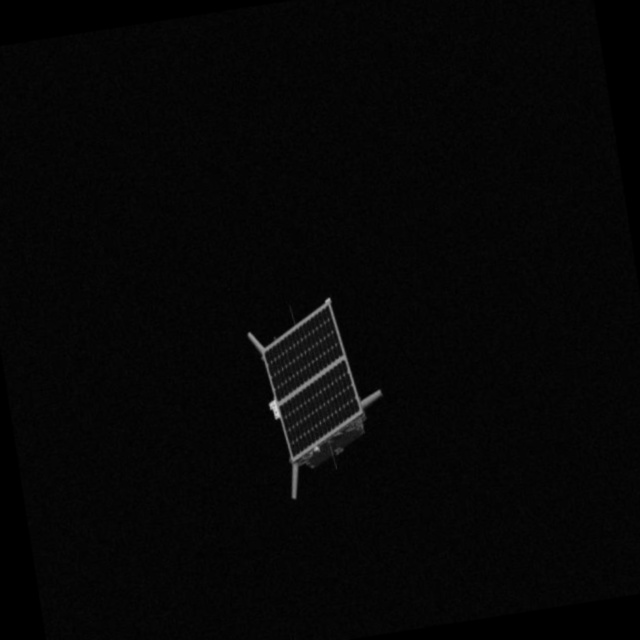medium_debris: (217, 287, 397, 509)
